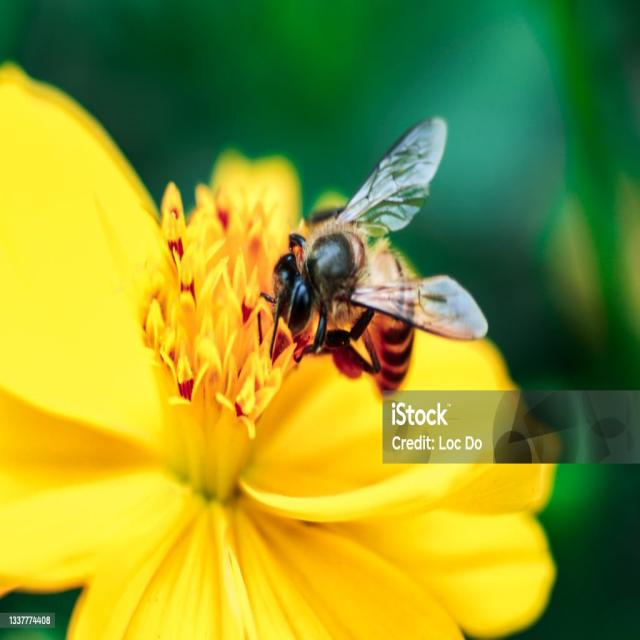bees: (258, 112, 488, 404)
